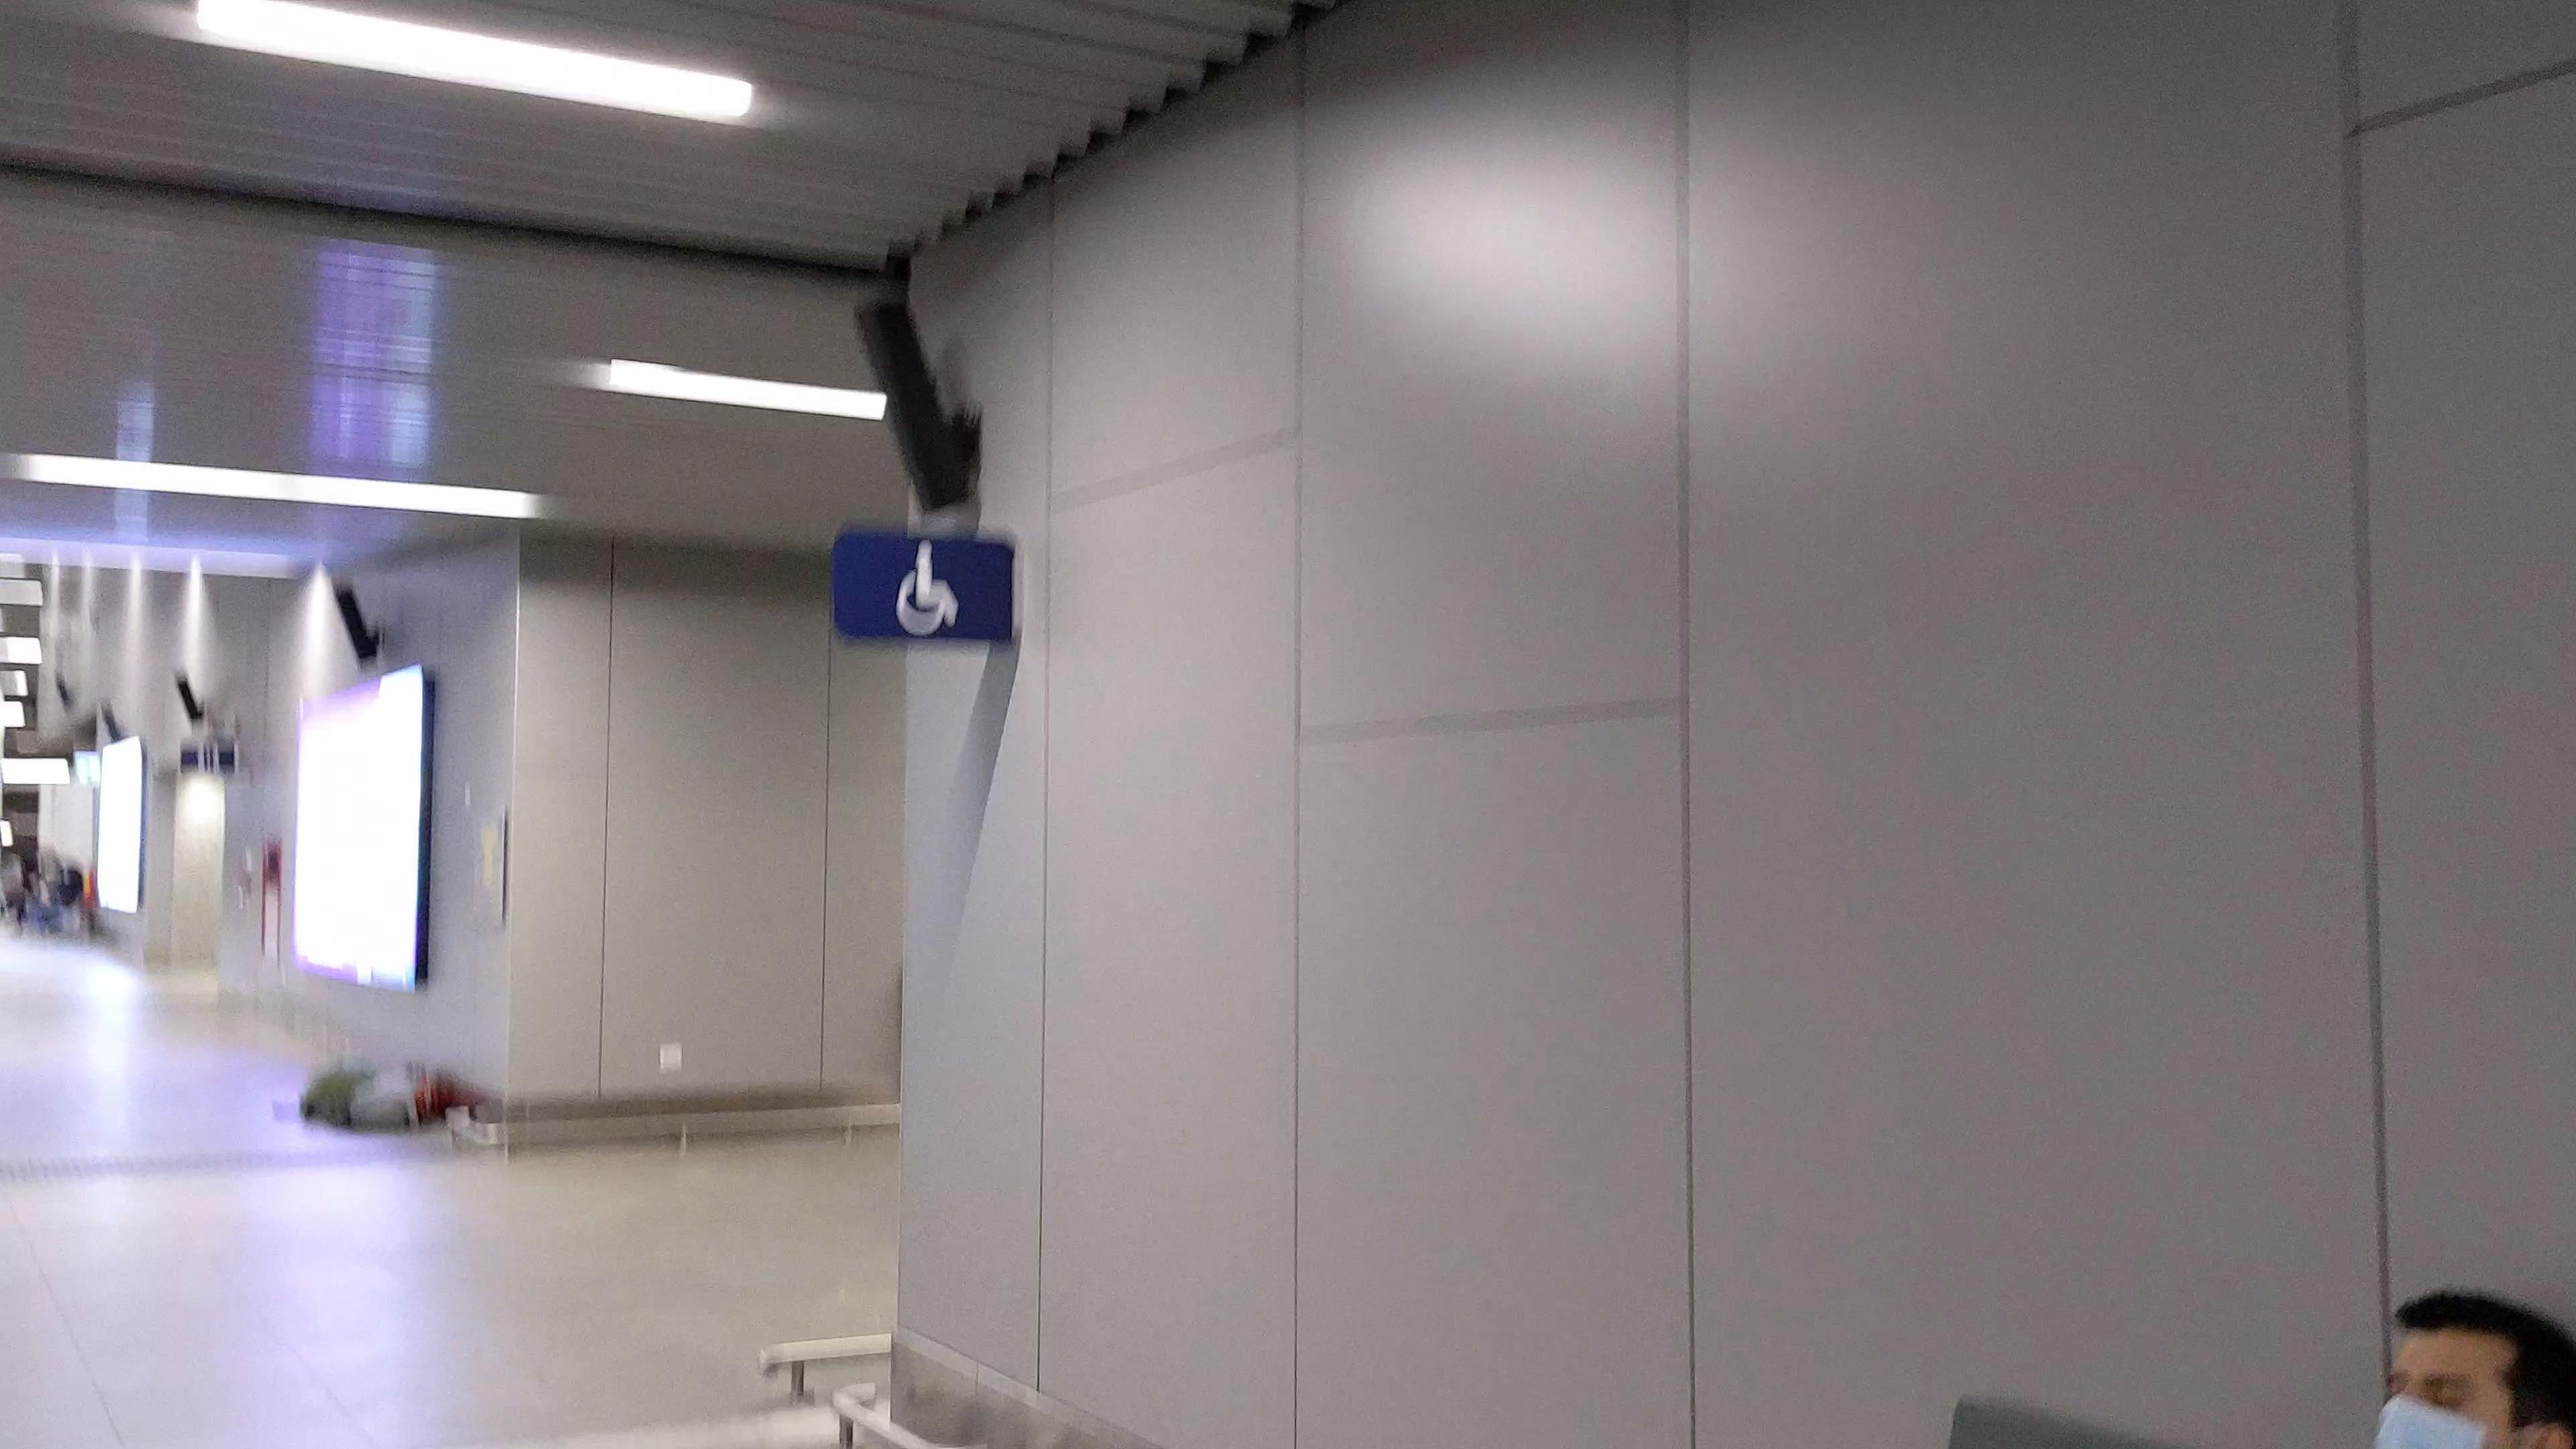handicapped symbol: (892, 540, 964, 639)
